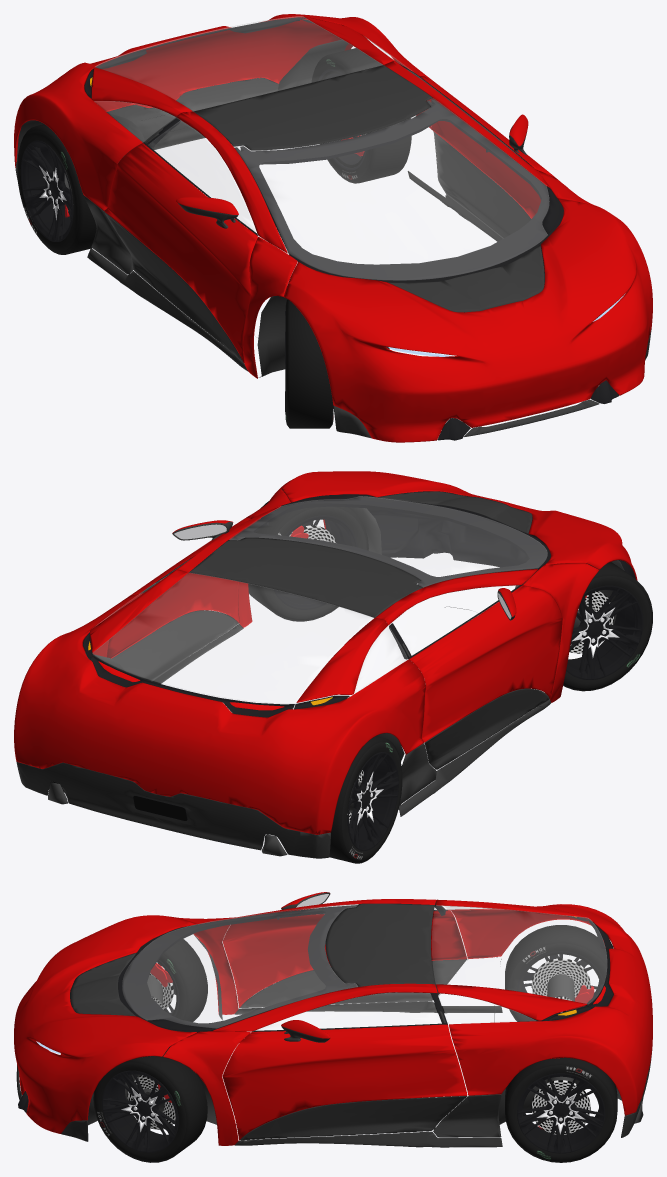
The model's file is concept.glb.
3 views of the same model, one above another, from view 1: azimuth 30°, elevation 25°; view 2: azimuth 150°, elevation 25°; view 3: azimuth 270°, elevation 25° (orthographic). The views are drawn at different scales.
Visible parts, largest first — view 1: BodyHood, BodyWindshield, BodyRearPanelsColor1, BodyRearwindow, BodyDoorRColor1, BodyRoofPanel, BodyWindshieldGasket, BodyPanelsColor2, BodyPillars, BodyHoodTopgrill, WheelFrontR, BodyDoorLColor2 (+11 smaller); view 2: BodyRearPanelsColor1, BodyRearwindow, BodyWindshield, BodyPanelsColor2, BodyDoorRColor1, BodyRoofPanel, BodyHood, BodyPillars, BodyWindshieldGasket, BodyHoodInterior01, WheelFrontRRim, BodyDoorLColor1 (+13 smaller); view 3: BodyRearPanelsColor1, BodyWindshield, BodyDoorLColor1, BodyHood, BodyRearwindow, BodyPillars, BodyRoofPanel, BodyPanelsColor2, BodyDoorRColor1, BodyWindshieldGasket, BodyDoorLColor2, WheelFrontL (+17 smaller).
Boxes of the visible parts, bbox=[...] form: BodyHood: bbox=[283, 198, 652, 442]; BodyWindshield: bbox=[234, 98, 549, 280]; BodyRearPanelsColor1: bbox=[14, 14, 435, 210]; BodyRearwindow: bbox=[95, 16, 382, 110]; BodyDoorRColor1: bbox=[104, 143, 257, 363]; BodyRoofPanel: bbox=[193, 65, 432, 150]; BodyWindshieldGasket: bbox=[234, 99, 563, 282]; BodyPanelsColor2: bbox=[15, 77, 651, 438]; BodyPillars: bbox=[176, 61, 598, 378]; BodyHoodTopgrill: bbox=[388, 245, 544, 312]; WheelFrontR: bbox=[285, 299, 333, 428]; BodyDoorLColor2: bbox=[434, 132, 531, 238]; BodyRearPanelsColor1: bbox=[14, 569, 425, 834]; BodyRearwindow: bbox=[92, 573, 373, 703]; BodyWindshield: bbox=[229, 496, 547, 587]; BodyPanelsColor2: bbox=[16, 624, 550, 858]; BodyDoorRColor1: bbox=[409, 585, 562, 742]; BodyRoofPanel: bbox=[189, 537, 422, 617]; BodyHood: bbox=[279, 471, 637, 580]; BodyPillars: bbox=[175, 489, 599, 702]; BodyWindshieldGasket: bbox=[230, 496, 550, 587]; BodyHoodInterior01: bbox=[282, 489, 635, 578]; WheelFrontRRim: bbox=[566, 585, 643, 679]; BodyDoorLColor1: bbox=[106, 517, 250, 658]; BodyRearPanelsColor1: bbox=[436, 899, 652, 1115]; BodyWindshield: bbox=[122, 904, 357, 1028]; BodyDoorLColor1: bbox=[222, 1024, 467, 1140]; BodyHood: bbox=[14, 915, 196, 1133]; BodyRearwindow: bbox=[432, 905, 606, 1003]; BodyPillars: bbox=[163, 899, 437, 1145]; BodyRoofPanel: bbox=[326, 903, 434, 986]; BodyPanelsColor2: bbox=[16, 957, 652, 1147]; BodyDoorRColor1: bbox=[222, 909, 467, 1007]; BodyWindshieldGasket: bbox=[118, 905, 357, 1032]; BodyDoorLColor2: bbox=[240, 1096, 467, 1140]; WheelFrontL: bbox=[93, 1050, 207, 1162].
Size of the model in its own units: 2.54 by 1.15 by 4.36.
16 materials, 2 textured.
